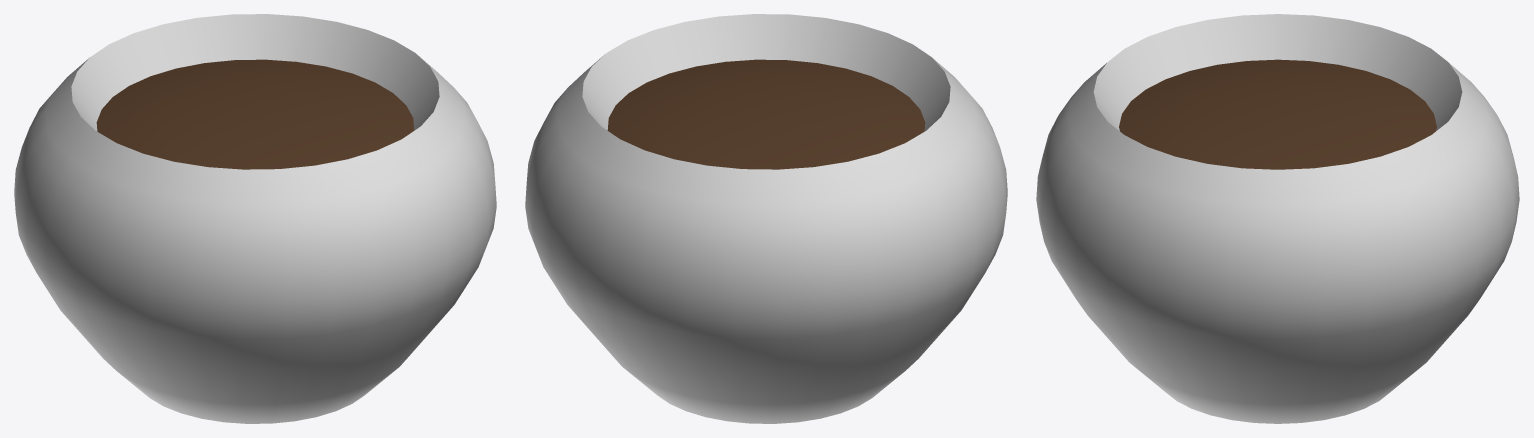
Rendered from PlantPot05.fbx.
The picture shows the model from 3 angles, left to right: view 1: azimuth 30°, elevation 25°; view 2: azimuth 150°, elevation 25°; view 3: azimuth 270°, elevation 25°; orthographic projection.
Parts seen in each view (by area): view 1: Cylinder.001; view 2: Cylinder.001; view 3: Cylinder.001.
Boxes of the visible parts, box(x1,y1,x2,y2) form: Cylinder.001: box(14, 14, 496, 423); Cylinder.001: box(525, 14, 1007, 423); Cylinder.001: box(1036, 14, 1519, 423).
Bounding box in the file's own units: 1.36 × 0.8726 × 1.36.
